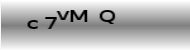7: (44, 15, 56, 30)
M: (69, 9, 87, 23)
Q: (98, 9, 116, 25)
c: (26, 19, 41, 30)
v: (55, 9, 70, 21)
